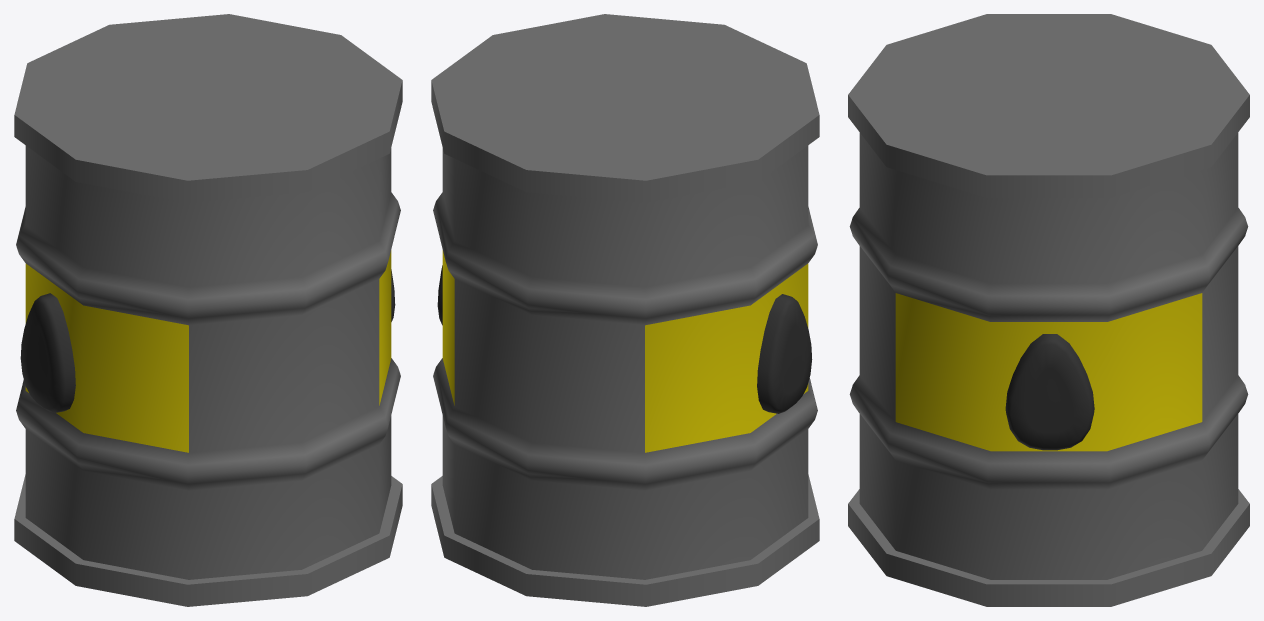
The model's file is GasStationStackables.fbx.
3 renders of one model, left to right at view 1: azimuth 30°, elevation 25°; view 2: azimuth 150°, elevation 25°; view 3: azimuth 270°, elevation 25°, orthographic.
Visible parts, largest first — view 1: PatrolVaril; view 2: PatrolVaril; view 3: PatrolVaril.
Boxes of the visible parts, bbox=[...] form: PatrolVaril: bbox=[14, 14, 402, 606]; PatrolVaril: bbox=[431, 14, 819, 606]; PatrolVaril: bbox=[848, 14, 1249, 606].
Size of the model in its own units: 2.09 by 2.51 by 2.12.
